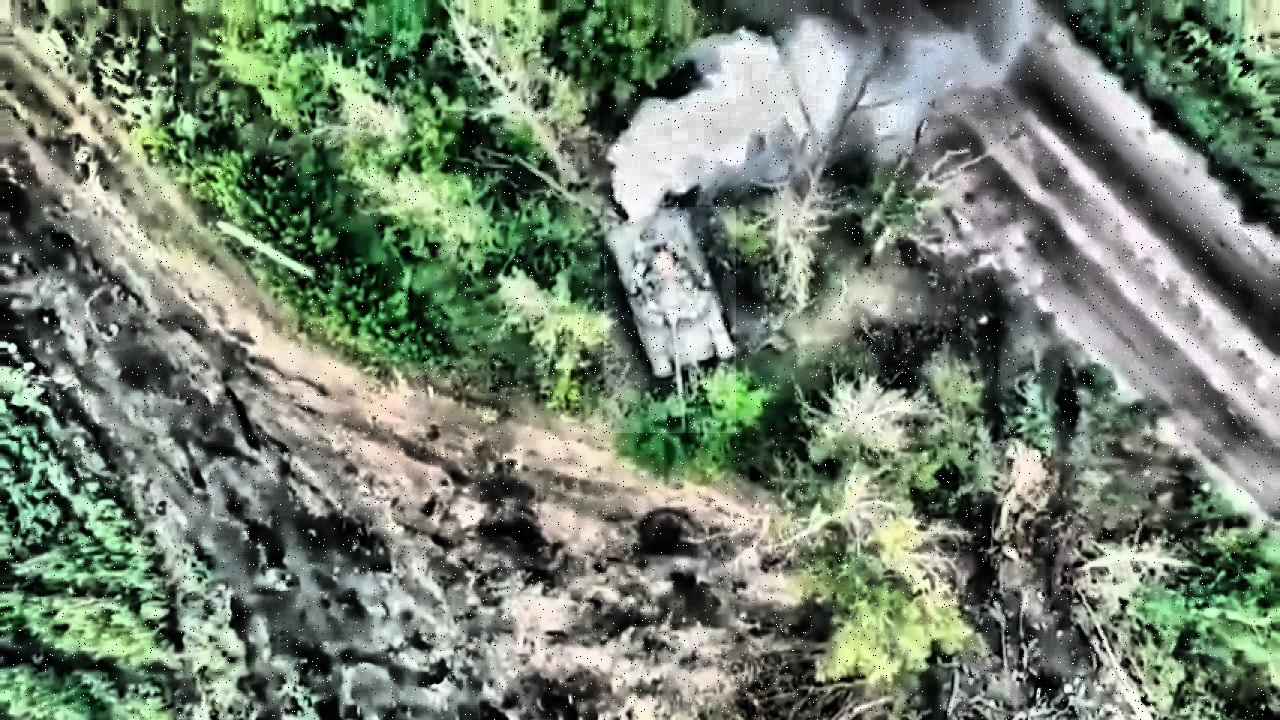military-vehicle: (604, 207, 736, 433)
